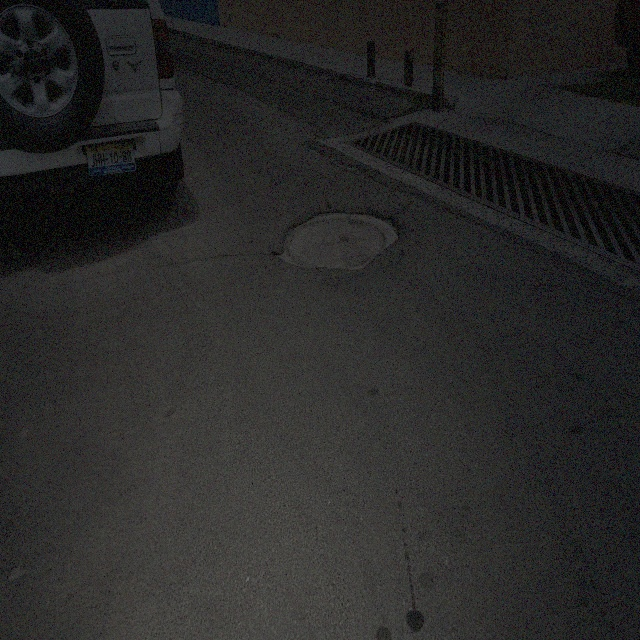pothole: (274, 204, 404, 275)
